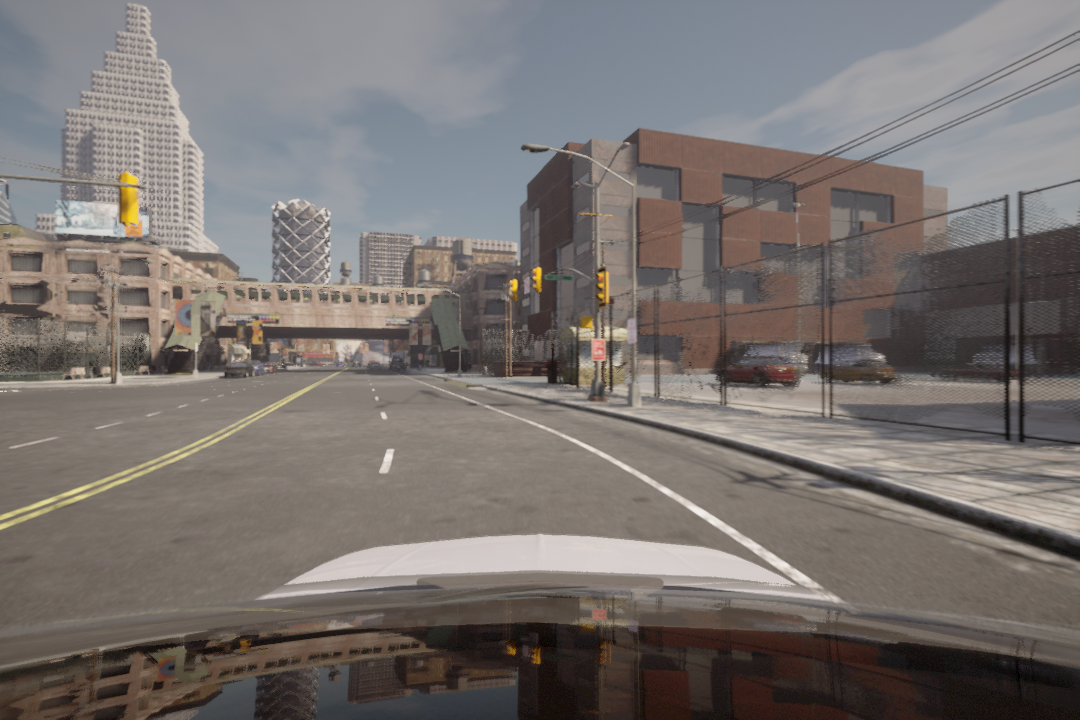TrafficLight: (595, 267, 610, 308), (530, 267, 541, 292), (508, 278, 516, 301)
